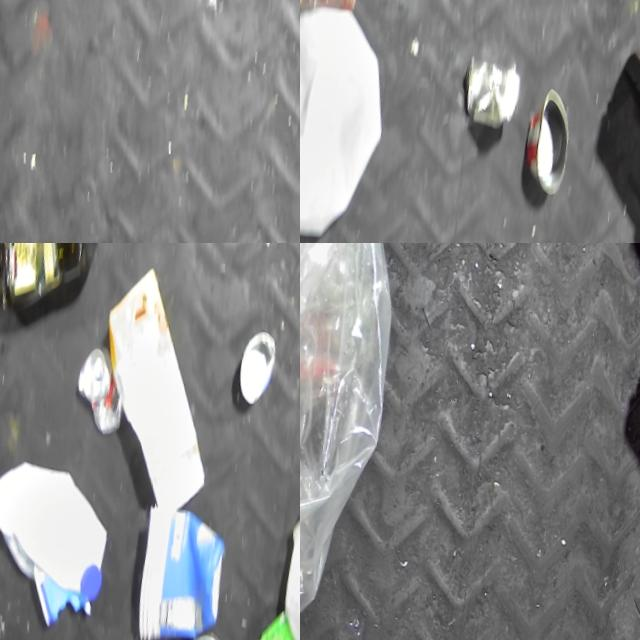can: (508, 85, 579, 215), (61, 344, 130, 443), (451, 49, 525, 139), (226, 328, 279, 421), (167, 629, 221, 640)
milk_jug: (300, 0, 402, 243), (0, 452, 115, 639)
non_white_jug: (0, 243, 110, 335)
